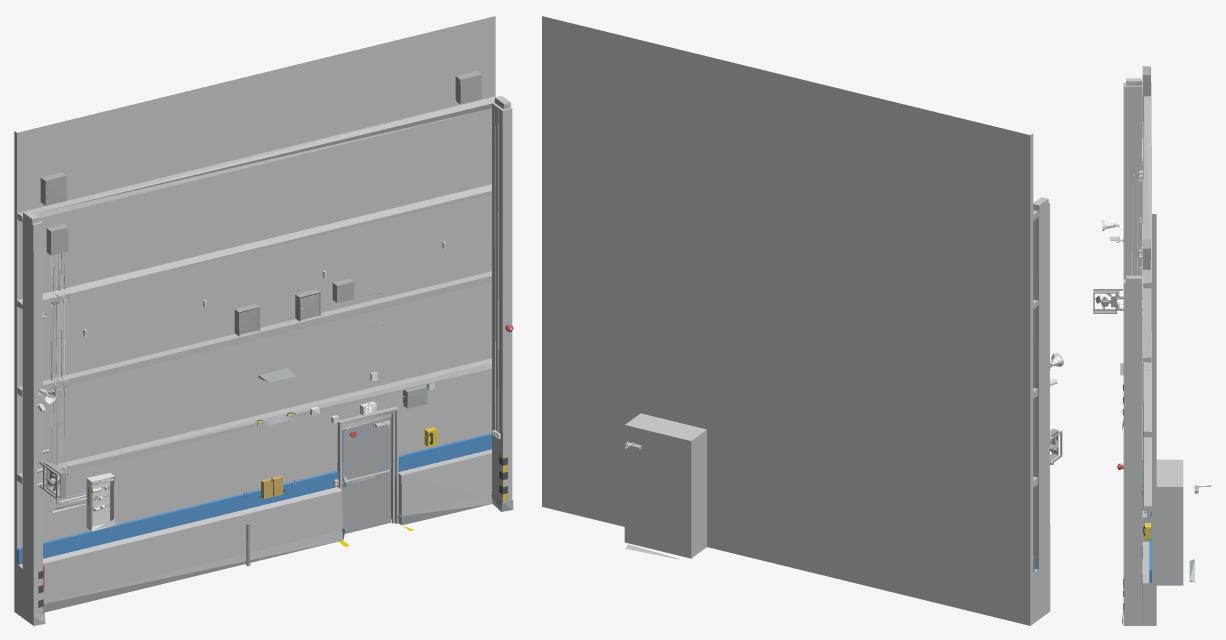
The model's file is galpao-parede.glb.
3 views of the same model, side by side, from view 1: azimuth 30°, elevation 25°; view 2: azimuth 150°, elevation 25°; view 3: azimuth 270°, elevation 25° (orthographic). The views are drawn at different scales.
Visible parts, largest first — view 1: #e6e9eb, #a3abb1, #7f878e, #1f5fbf, #8f979d, #f2f2ee, #f1f3f4, #9aa3aa_1; view 2: #e6e9eb; view 3: #e6e9eb, #a3abb1, #7f878e, #f2f2ee, #f1f3f4.
Part boxes in pixels (bbox=[...]): #e6e9eb: bbox=[14, 16, 512, 625]; #a3abb1: bbox=[17, 96, 495, 528]; #7f878e: bbox=[39, 71, 481, 566]; #1f5fbf: bbox=[17, 433, 491, 564]; #8f979d: bbox=[33, 493, 513, 625]; #f2f2ee: bbox=[42, 106, 500, 512]; #f1f3f4: bbox=[37, 388, 433, 531]; #9aa3aa_1: bbox=[36, 91, 508, 510]; #e6e9eb: bbox=[542, 16, 1050, 625]; #e6e9eb: bbox=[1123, 78, 1183, 625]; #a3abb1: bbox=[1142, 82, 1194, 581]; #7f878e: bbox=[1093, 66, 1150, 495]; #f2f2ee: bbox=[1118, 169, 1146, 514]; #f1f3f4: bbox=[1102, 219, 1143, 404].
Bounding box in the file's own units: 10.03 × 9.6 × 2.5.
